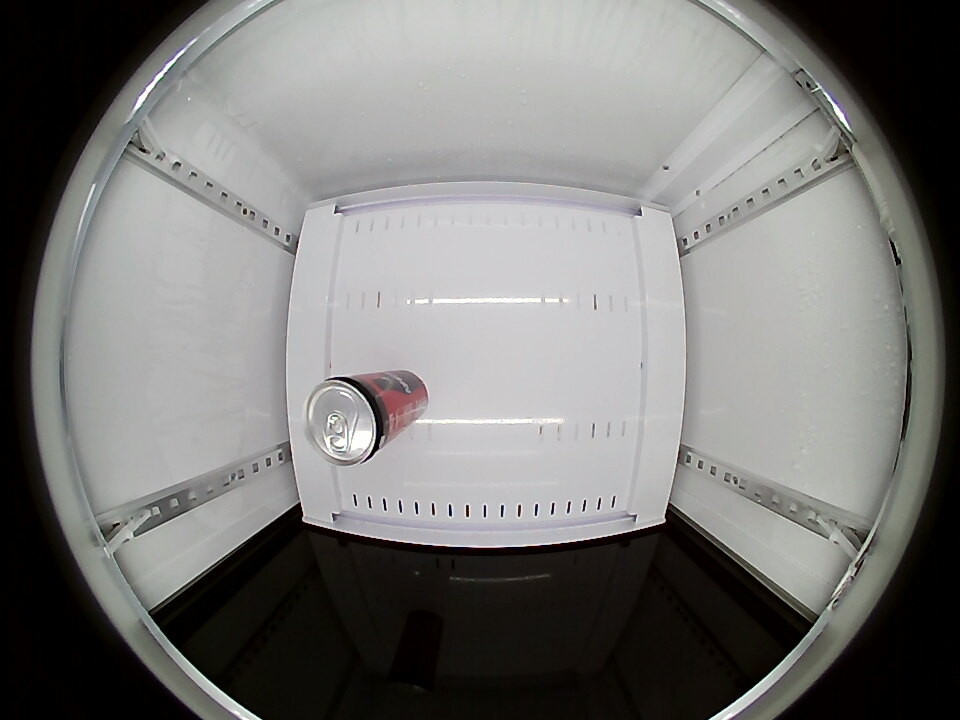lingdukele: (305, 374, 397, 467)
